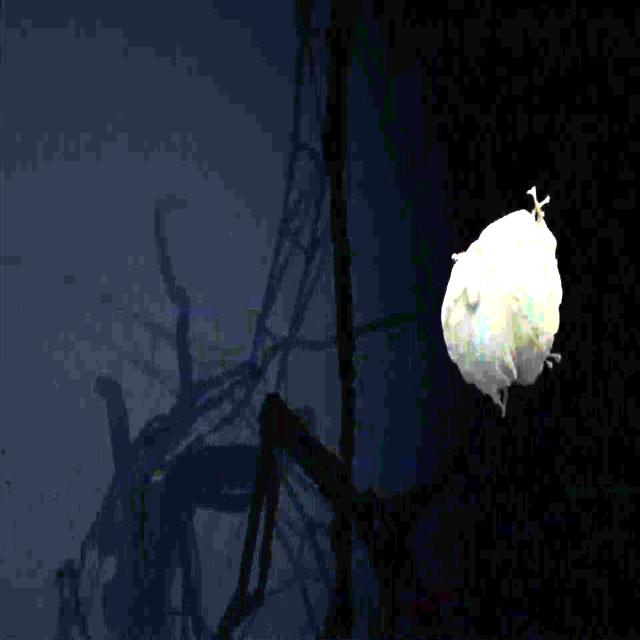blob: (442, 186, 561, 401)
